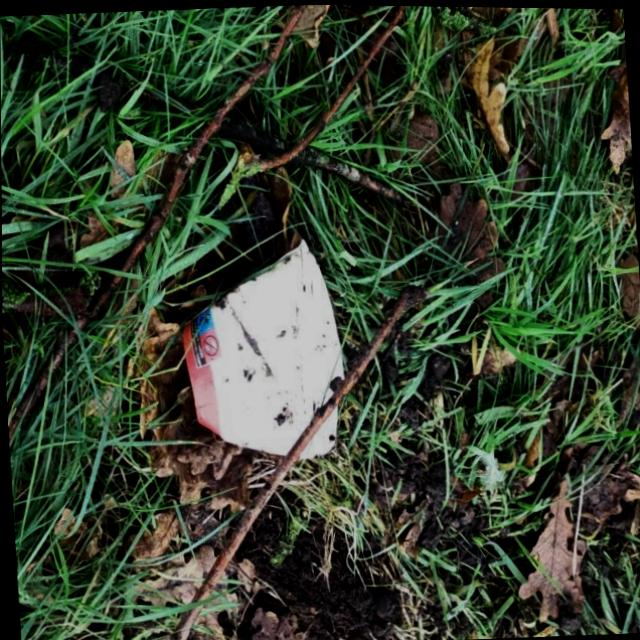Cup: (175, 232, 350, 466)
